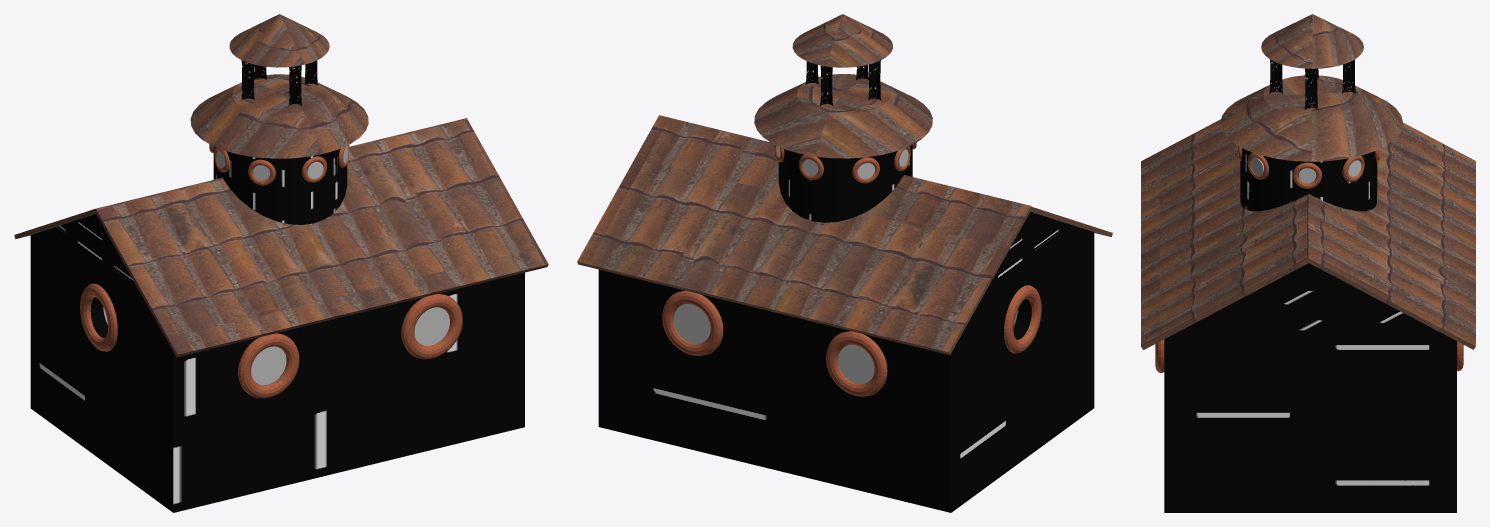
The model's file is nuovomuondonuovo.obj.
3 renders of one model, left to right at view 1: azimuth 30°, elevation 25°; view 2: azimuth 150°, elevation 25°; view 3: azimuth 270°, elevation 25°, orthographic. The views are drawn at different scales.
Parts seen in each view (by area): view 1: Main_Cube.009, Roof_segment_2_Cube.001, middleroof_Cone, Tower_Cylinder.001, TriangleRoof_Cube.010, toproof_Cone.001, rightsidewindow.000_Torus.005, rightsidewindow.001_Torus.003, frontwindow_Torus.006, Roof_segment_Cube, WindowDarkness.001_Cylinder.002, WindowDarkness_Cylinder; view 2: Main_Cube.009, Roof_segment_Cube, middleroof_Cone, Tower_Cylinder.001, TriangleRoof_Cube.010, toproof_Cone.001, leftsidewindow_Torus.008, leftsidewindow1_Torus.007, frontwindow_Torus.006, WindowDarkness.002_Cylinder.003, WindowDarkness.003_Cylinder.004; view 3: Main_Cube.009, Roof_segment_2_Cube.001, Roof_segment_Cube, middleroof_Cone, TriangleRoof_Cube.010, Tower_Cylinder.001, toproof_Cone.001, column.001_Circle.005, towerwindow.006_Torus.011, column.003_Circle.007, column.002_Circle.006.
Boxes of the visible parts, x1=… form: Main_Cube.009: x1=30, y1=233, x2=524, y2=512; Roof_segment_2_Cube.001: x1=95, y1=119, x2=548, y2=357; middleroof_Cone: x1=190, y1=74, x2=368, y2=158; Tower_Cylinder.001: x1=213, y1=146, x2=347, y2=224; TriangleRoof_Cube.010: x1=35, y1=214, x2=156, y2=322; toproof_Cone.001: x1=229, y1=14, x2=329, y2=67; rightsidewindow.000_Torus.005: x1=238, y1=333, x2=299, y2=398; rightsidewindow.001_Torus.003: x1=401, y1=294, x2=462, y2=358; frontwindow_Torus.006: x1=80, y1=283, x2=117, y2=351; Roof_segment_Cube: x1=14, y1=118, x2=467, y2=239; WindowDarkness.001_Cylinder.002: x1=414, y1=307, x2=449, y2=345; WindowDarkness_Cylinder: x1=251, y1=346, x2=286, y2=384; Main_Cube.009: x1=598, y1=231, x2=1094, y2=512; Roof_segment_Cube: x1=577, y1=115, x2=1031, y2=354; middleroof_Cone: x1=754, y1=74, x2=932, y2=158; Tower_Cylinder.001: x1=778, y1=145, x2=912, y2=222; TriangleRoof_Cube.010: x1=969, y1=211, x2=1091, y2=320; toproof_Cone.001: x1=792, y1=14, x2=892, y2=67; leftsidewindow_Torus.008: x1=826, y1=331, x2=887, y2=396; leftsidewindow1_Torus.007: x1=662, y1=290, x2=723, y2=355; frontwindow_Torus.006: x1=1004, y1=285, x2=1041, y2=353; WindowDarkness.002_Cylinder.003: x1=673, y1=304, x2=710, y2=343; WindowDarkness.003_Cylinder.004: x1=838, y1=344, x2=874, y2=383; Main_Cube.009: x1=1164, y1=330, x2=1456, y2=512; Roof_segment_2_Cube.001: x1=1141, y1=75, x2=1308, y2=349; Roof_segment_Cube: x1=1306, y1=122, x2=1475, y2=349; middleroof_Cone: x1=1220, y1=75, x2=1402, y2=161; TriangleRoof_Cube.010: x1=1182, y1=263, x2=1435, y2=330; Tower_Cylinder.001: x1=1240, y1=148, x2=1377, y2=211; toproof_Cone.001: x1=1261, y1=14, x2=1363, y2=68; column.001_Circle.005: x1=1304, y1=68, x2=1318, y2=110; towerwindow.006_Torus.011: x1=1293, y1=162, x2=1321, y2=188; column.003_Circle.007: x1=1269, y1=59, x2=1282, y2=93; column.002_Circle.006: x1=1342, y1=59, x2=1355, y2=93.
Bounding box in the file's own units: 3.84 × 3.98 × 2.93.
Materials: 6 (5 with a texture image).
